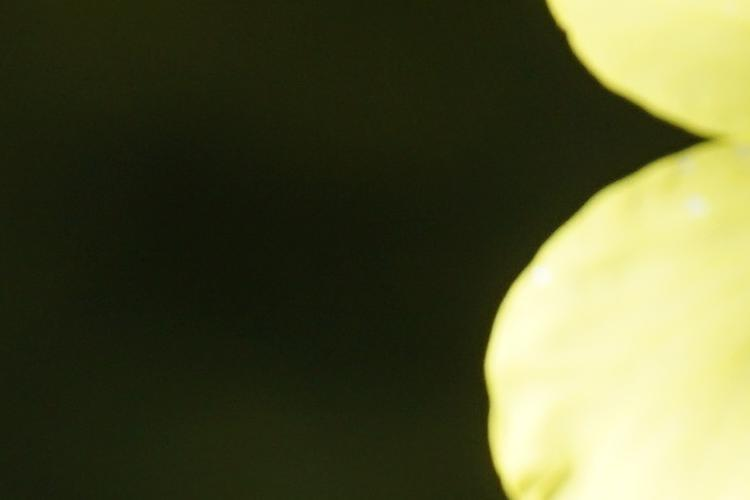yellow: (468, 11, 747, 500)
